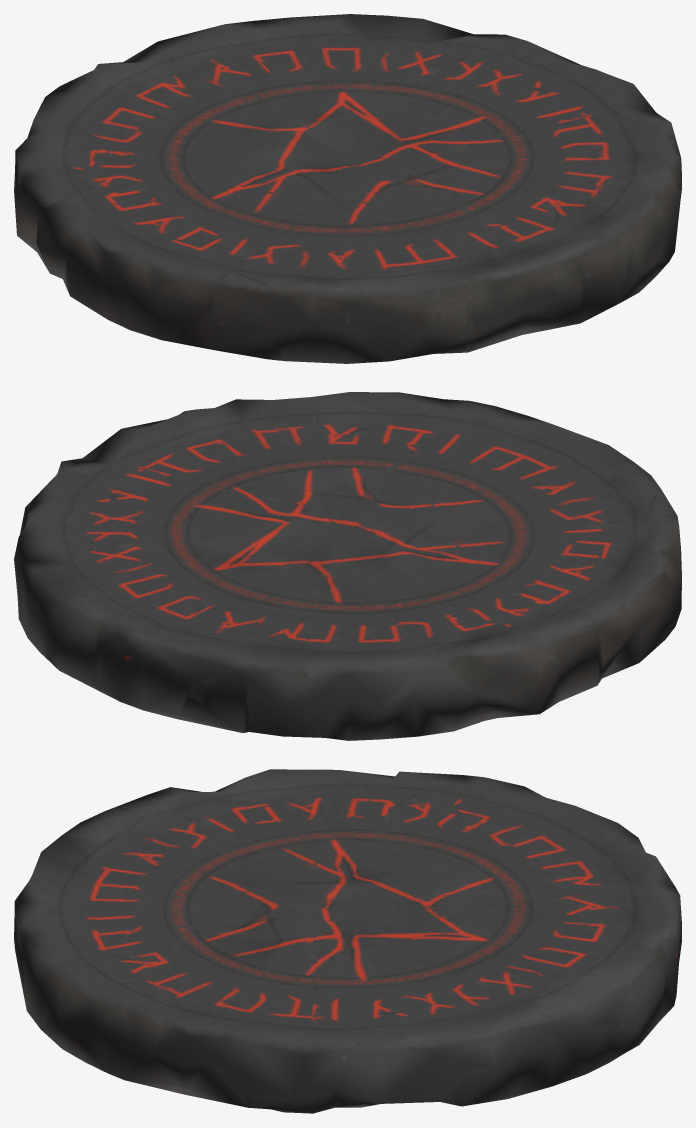
File: ritual_circle.glb
The picture shows the model from 3 angles, top to bottom: view 1: azimuth 30°, elevation 25°; view 2: azimuth 150°, elevation 25°; view 3: azimuth 270°, elevation 25°; orthographic projection.
Bounding box in the file's own units: 1.99 × 0.2462 × 2.
1 material, 1 textured.
